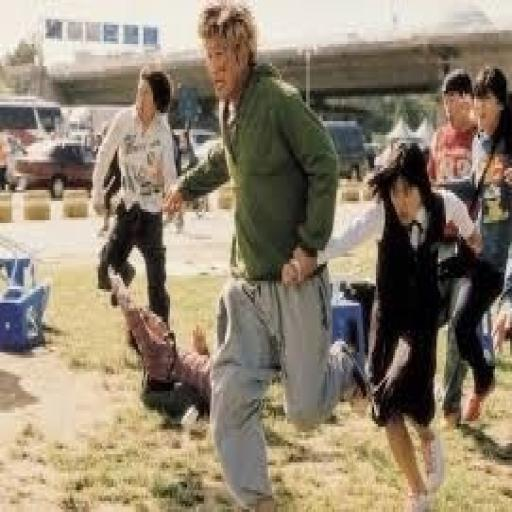running: (162, 0, 368, 509)
